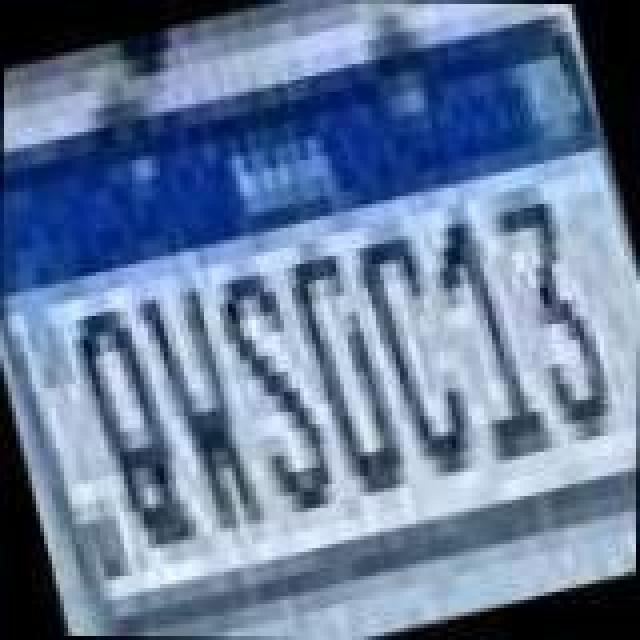1: (416, 194, 560, 466)
3: (478, 178, 626, 454)
C: (344, 212, 488, 488)
D: (278, 230, 418, 506)
Q: (60, 288, 208, 568)
S: (204, 256, 344, 528)
W: (126, 270, 270, 550)
